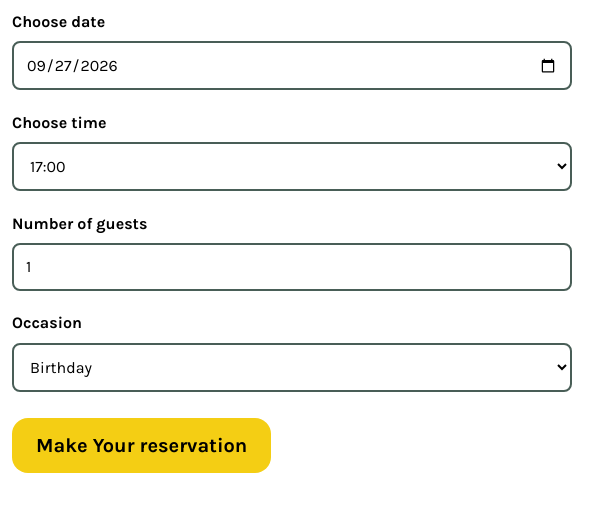
Scenario: BookingForm validation › disables submission for an invalid guest count (0)
Replace the text in the number field labelled "Number of guests" with "0" at {"x": 292, "y": 267}, box top-left (12, 243), bottom-right (572, 291)
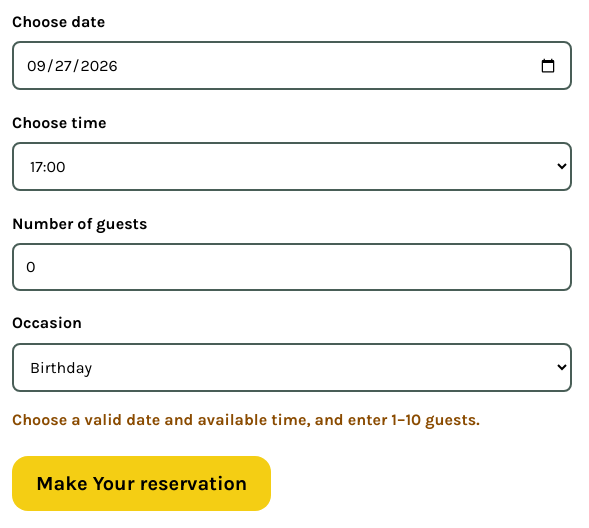
Check: the button "Make Your reservation" is disabled, box top-left (12, 456), bottom-right (271, 510)
Check: the message "Choose a valid date and available time, and enter 1–10 guests." is shown, box top-left (12, 410), bottom-right (480, 429)
